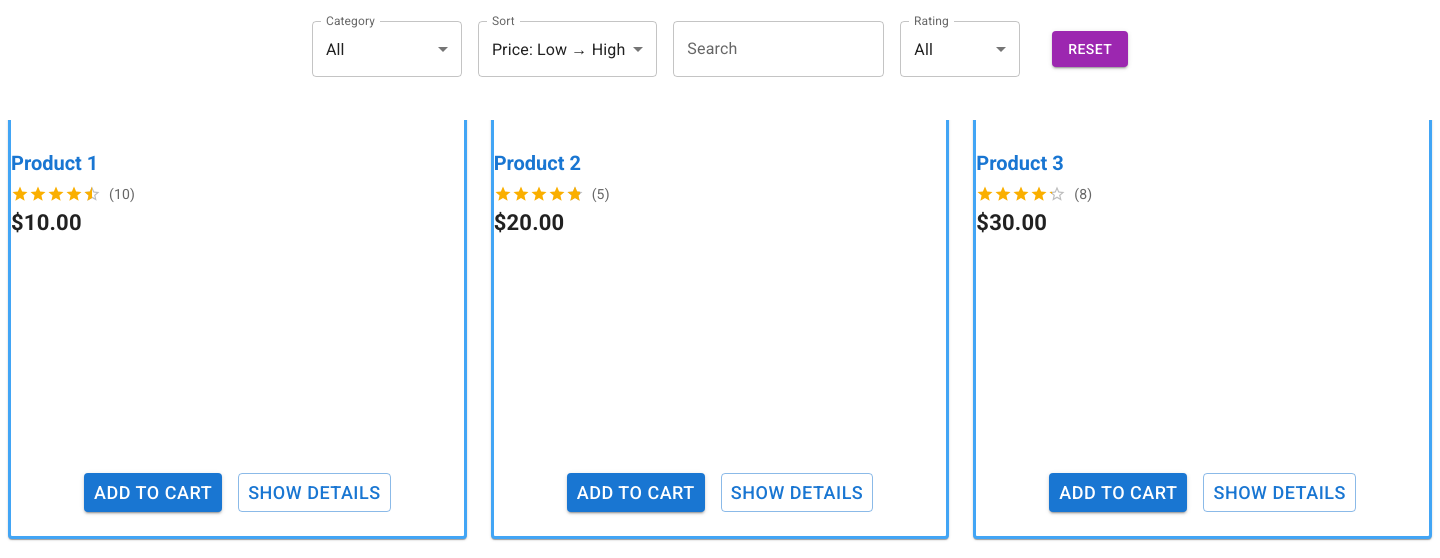
Test: Products integration tests › filters products by category
Expected: the text "Product 1" is shown, [11,151,98,175]
Kliknij w Select, żeby otworzyć menu
Click the dropdown named "Category".
click(335, 49)  # box [326,40,345,58]
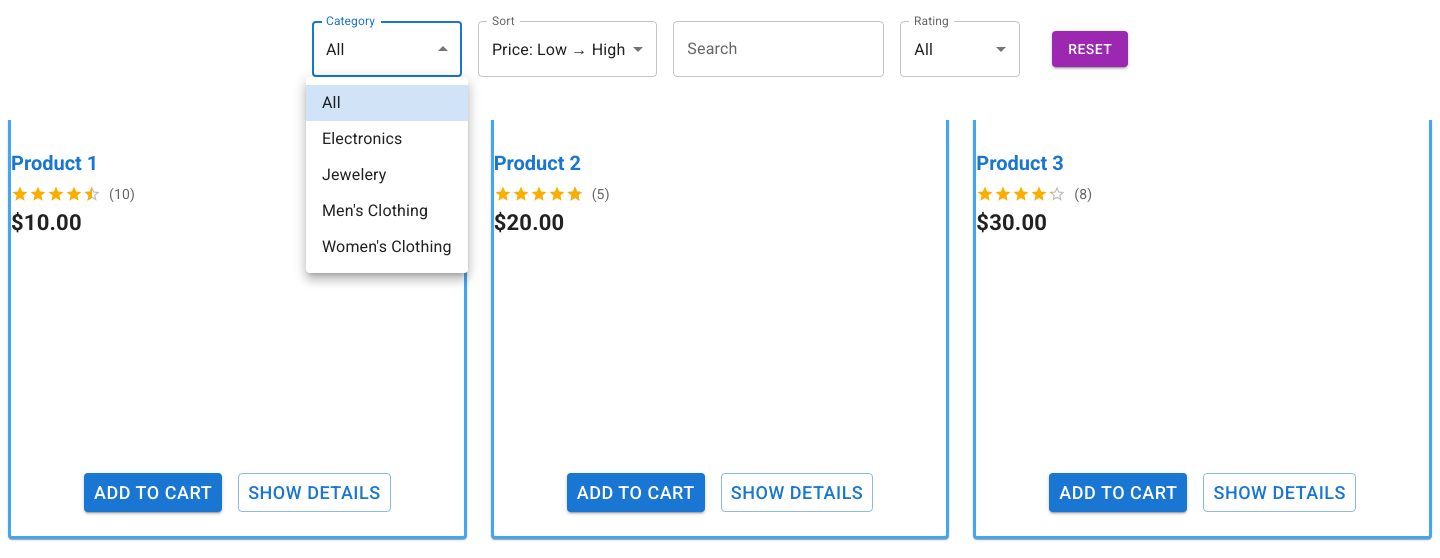
Click the option "Electronics".
click(362, 138)  # box [322,129,402,148]
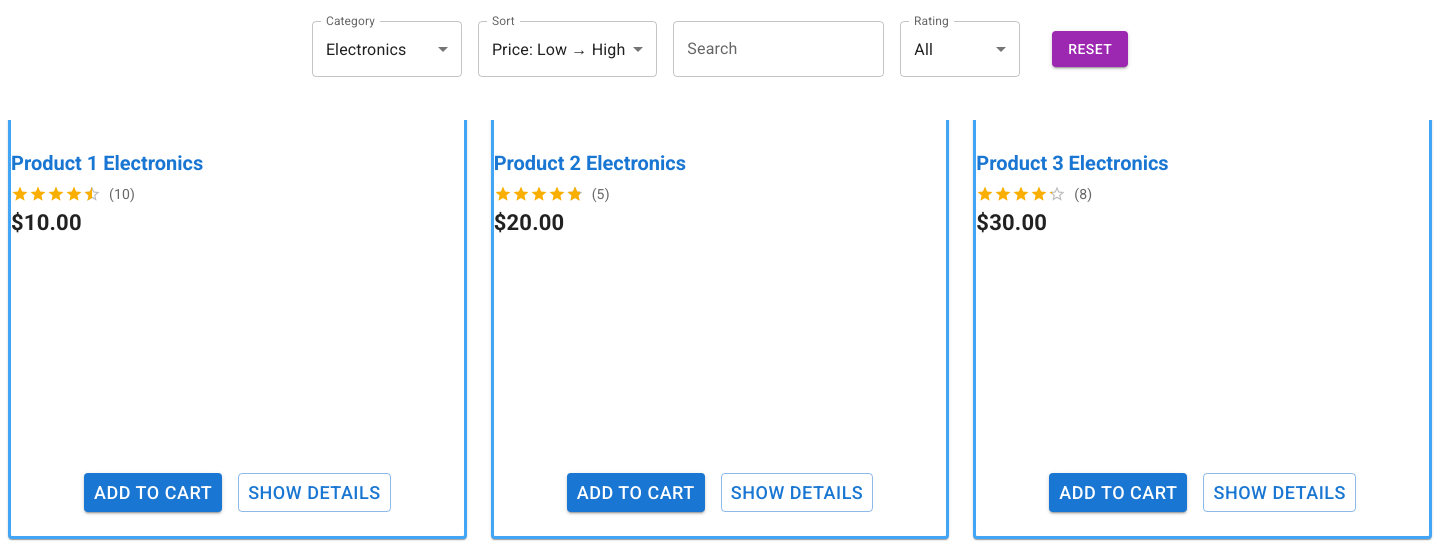
Result: the text "Product 1 Electronics" is shown at [11,151,203,175]
